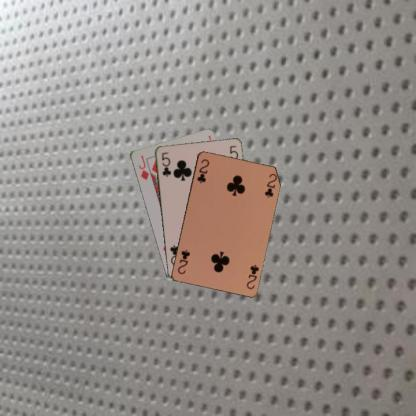2c: (194, 156, 210, 184), (244, 262, 260, 290)
5c: (158, 150, 172, 178)
Jd: (136, 152, 150, 181)
